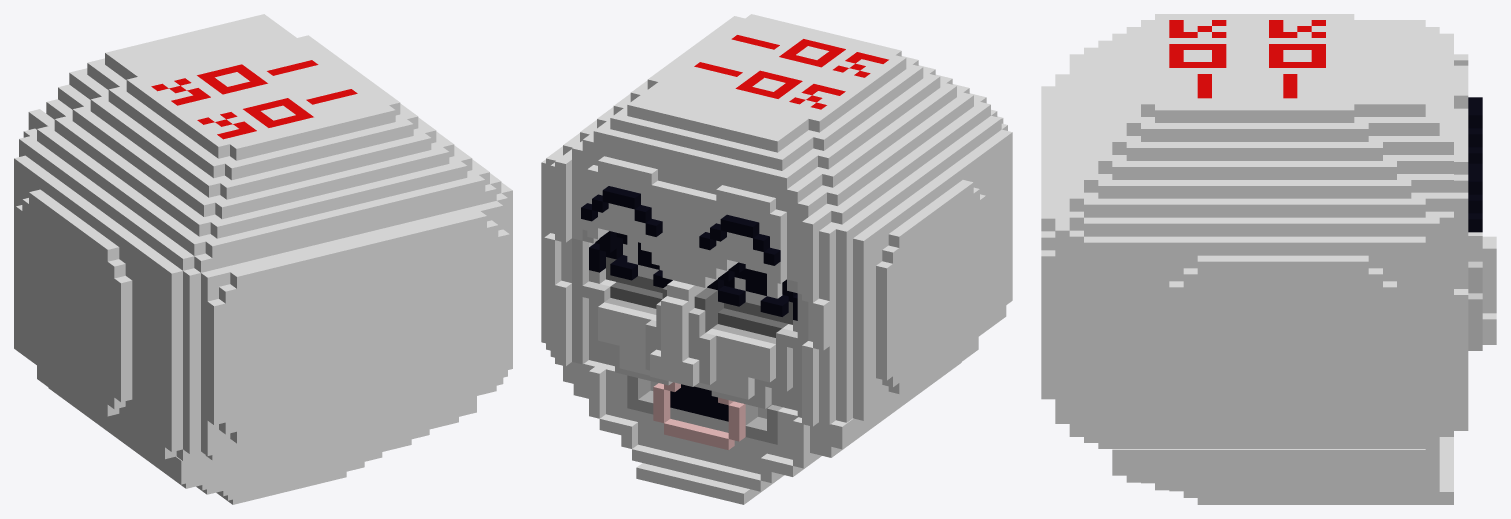
File: robot.obj
The picture shows the model from 3 angles, left to right: view 1: azimuth 30°, elevation 25°; view 2: azimuth 150°, elevation 25°; view 3: azimuth 270°, elevation 25°; orthographic projection. The views are drawn at different scales.
Bounding box in the file's own units: 3.2 × 3.2 × 3.2.
1 material, 1 textured.
